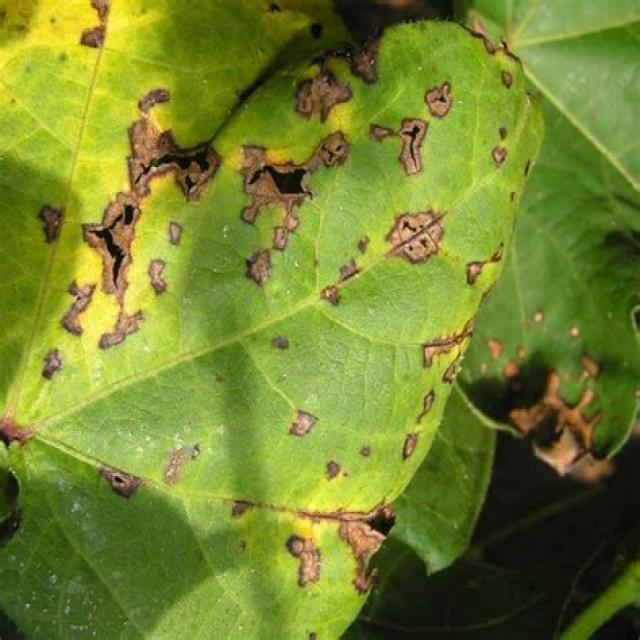Sick Lettuce: (0, 0, 545, 638)
